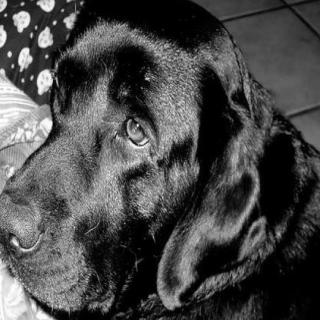dog: (0, 0, 258, 318)
nose: (0, 186, 46, 257)
